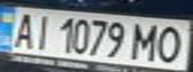0: (69, 16, 90, 55)
1: (51, 14, 75, 53)
7: (87, 17, 109, 56)
9: (103, 18, 130, 60)
A: (6, 9, 39, 50)
I: (30, 11, 57, 51)
M: (127, 20, 163, 62)
O: (151, 24, 190, 64)
